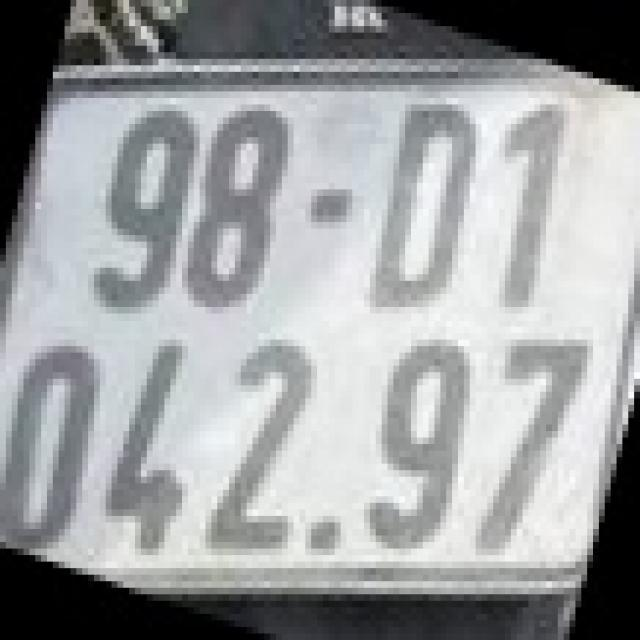0: (0, 340, 100, 542)
1: (494, 91, 576, 307)
2: (206, 333, 311, 549)
4: (106, 340, 188, 556)
7: (476, 333, 594, 555)
8: (188, 98, 288, 314)
9: (364, 333, 470, 549), (88, 104, 194, 314)
D: (369, 98, 482, 314)
